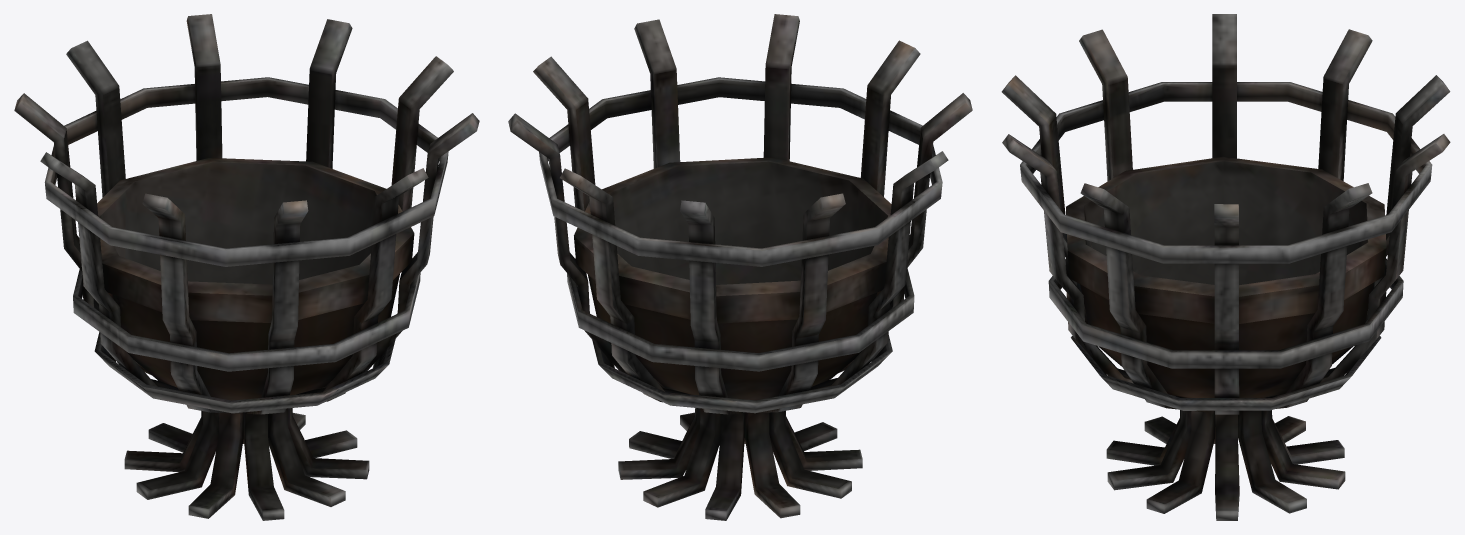
File: brazier.glb
3 renders of one model, left to right at view 1: azimuth 30°, elevation 25°; view 2: azimuth 150°, elevation 25°; view 3: azimuth 270°, elevation 25°, orthographic.
Parts seen in each view (by area): view 1: bra_Metal_0; view 2: bra_Metal_0; view 3: bra_Metal_0.
Boxes of the visible parts, x1,y1,x2,y2 form: bra_Metal_0: (14,14,479,520); bra_Metal_0: (508,14,972,520); bra_Metal_0: (1001,14,1450,520).
Bounding box in the file's own units: 106 × 90.7 × 102.
Materials: 1 (1 with a texture image).
